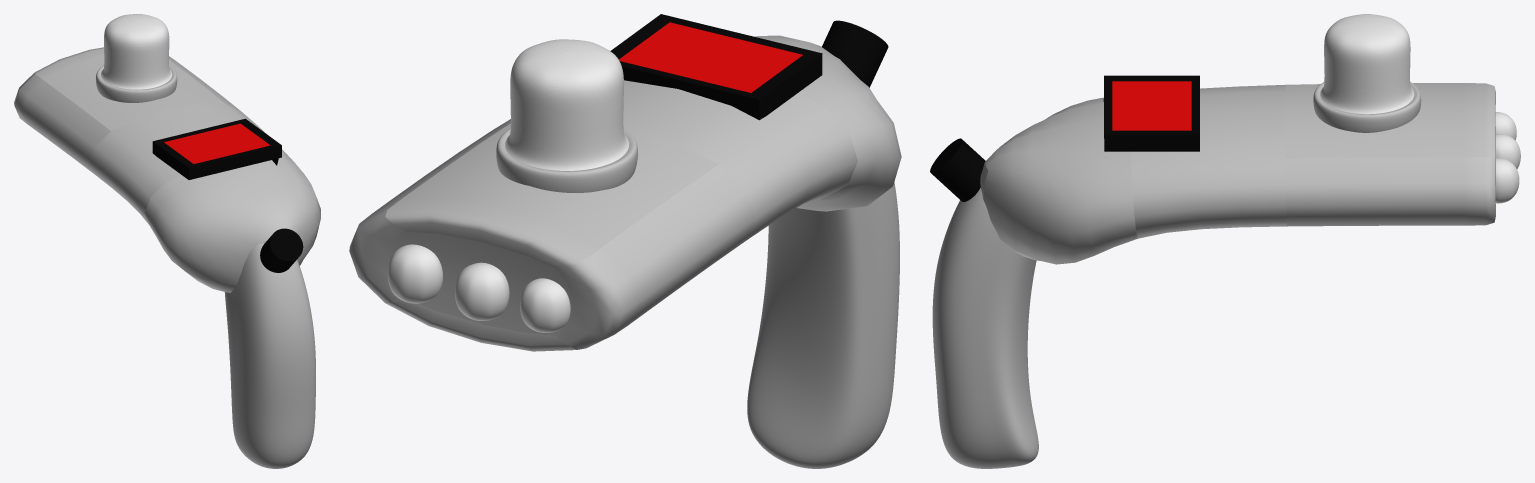
The model's file is SparaPorte.fbx.
3 views of the same model, side by side, from view 1: azimuth 30°, elevation 25°; view 2: azimuth 150°, elevation 25°; view 3: azimuth 270°, elevation 25° (orthographic). The views are drawn at different scales.
Parts seen in each view (by area): view 1: Cube, Cube.001, Cylinder.004, Cube.004, Cube.002, Cylinder.005, Cylinder.003, Cube.003; view 2: Cube, Cube.001, Cylinder.004, Cube.004, Cylinder.003, Cube.002, Cube.003, Cylinder, Cylinder.001, Cylinder.005, Cylinder.002; view 3: Cube, Cube.001, Cylinder.004, Cube.004, Cylinder.003, Cylinder.005, Cube.003, Cube.002, Cylinder, Cylinder.001.
Part boxes in pixels (<box>): Cube: <box>14,47,320,292</box>; Cube.001: <box>224,243,315,468</box>; Cylinder.004: <box>101,14,172,89</box>; Cube.004: <box>164,123,270,163</box>; Cube.002: <box>152,119,281,179</box>; Cylinder.005: <box>260,228,303,272</box>; Cylinder.003: <box>96,65,177,102</box>; Cube.003: <box>153,119,281,167</box>; Cube: <box>349,35,901,351</box>; Cube.001: <box>747,182,899,468</box>; Cylinder.004: <box>505,39,628,170</box>; Cube.004: <box>619,22,802,92</box>; Cylinder.003: <box>496,128,637,192</box>; Cube.002: <box>619,22,822,120</box>; Cube.003: <box>610,14,822,99</box>; Cylinder: <box>387,244,442,303</box>; Cylinder.001: <box>455,262,509,320</box>; Cylinder.005: <box>822,20,888,87</box>; Cylinder.002: <box>520,278,570,332</box>; Cube: <box>980,83,1495,264</box>; Cube.001: <box>932,188,1038,468</box>; Cylinder.004: <box>1320,14,1414,114</box>; Cube.004: <box>1112,81,1191,130</box>; Cylinder.003: <box>1313,82,1421,132</box>; Cylinder.005: <box>930,138,985,201</box>; Cube.003: <box>1104,75,1199,135</box>; Cube.002: <box>1103,76,1199,151</box>; Cylinder: <box>1495,158,1519,203</box>; Cylinder.001: <box>1496,134,1520,168</box>.
Size of the model in its own units: 76.98 by 152 by 184.
